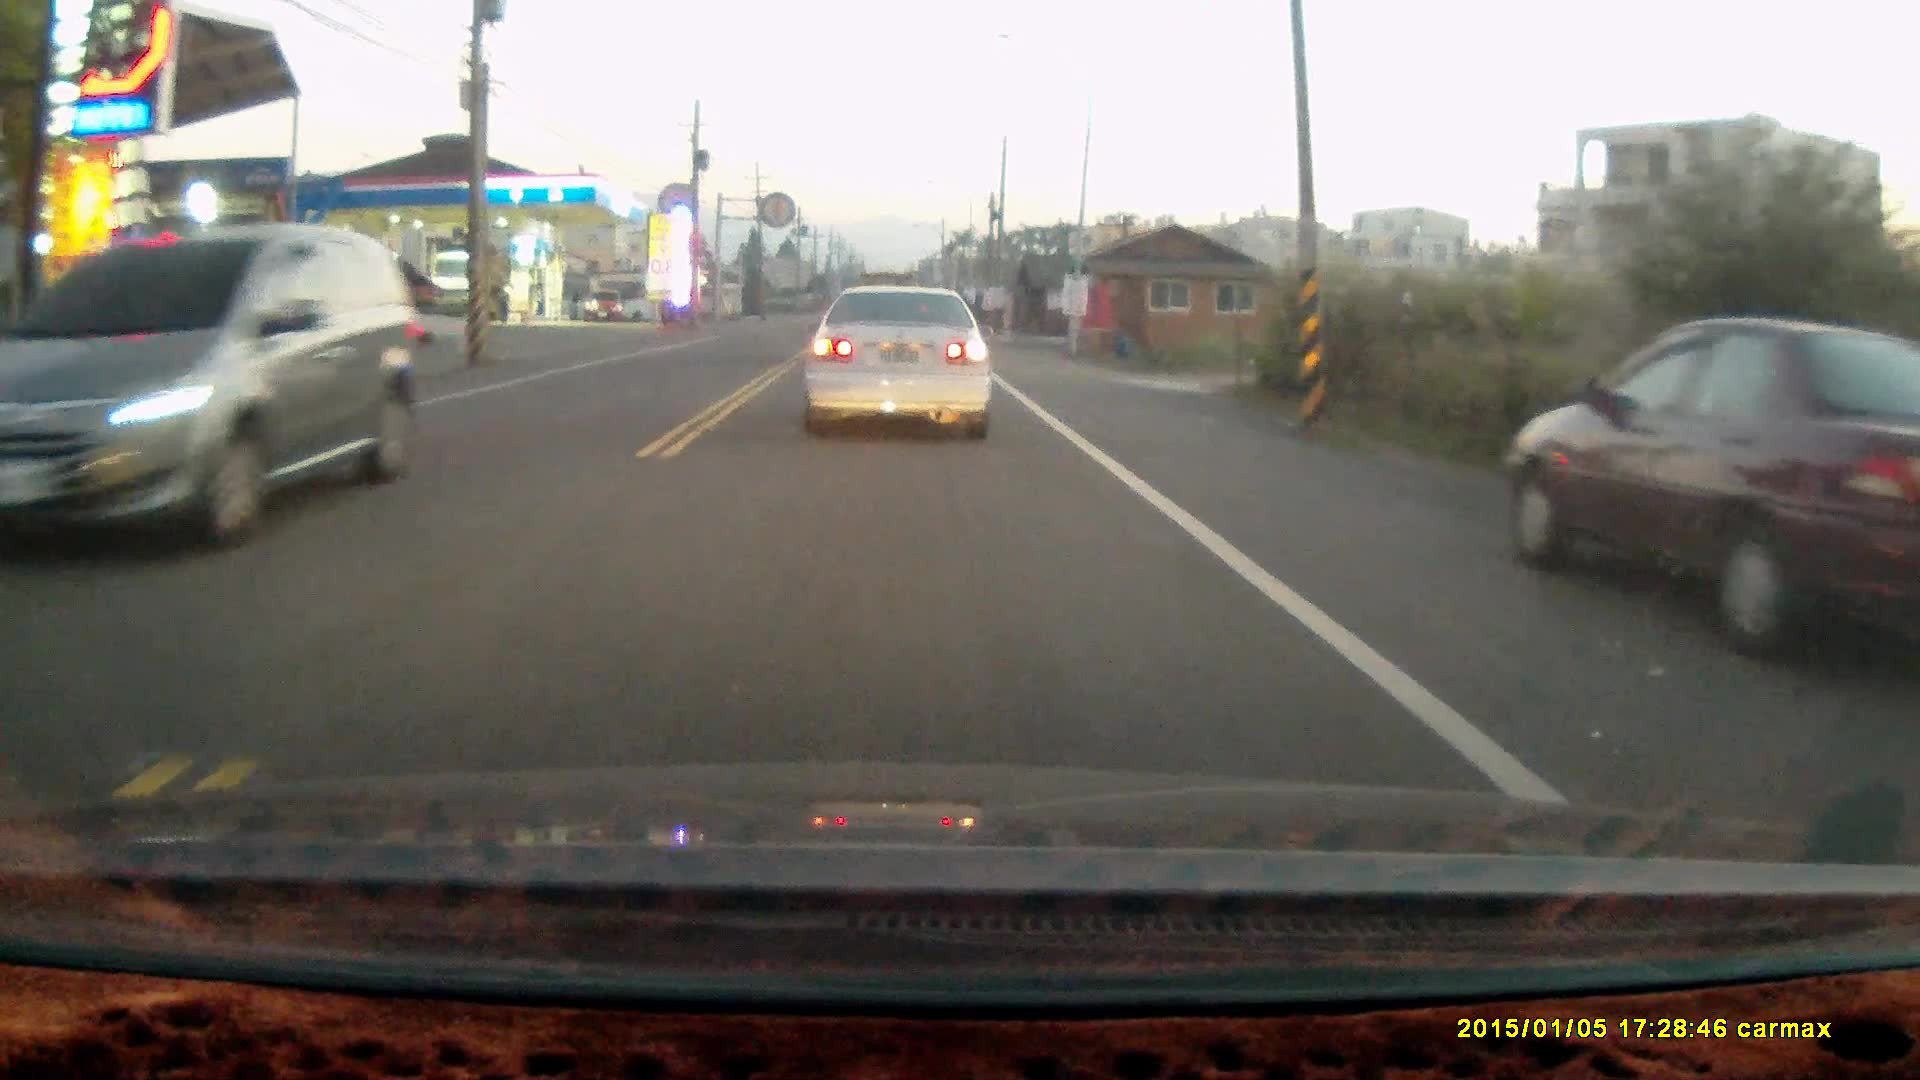pedestrian: (495, 280, 516, 322)
vehicle: (1504, 314, 1917, 711), (1, 227, 437, 552), (796, 281, 995, 441), (585, 289, 625, 324)
